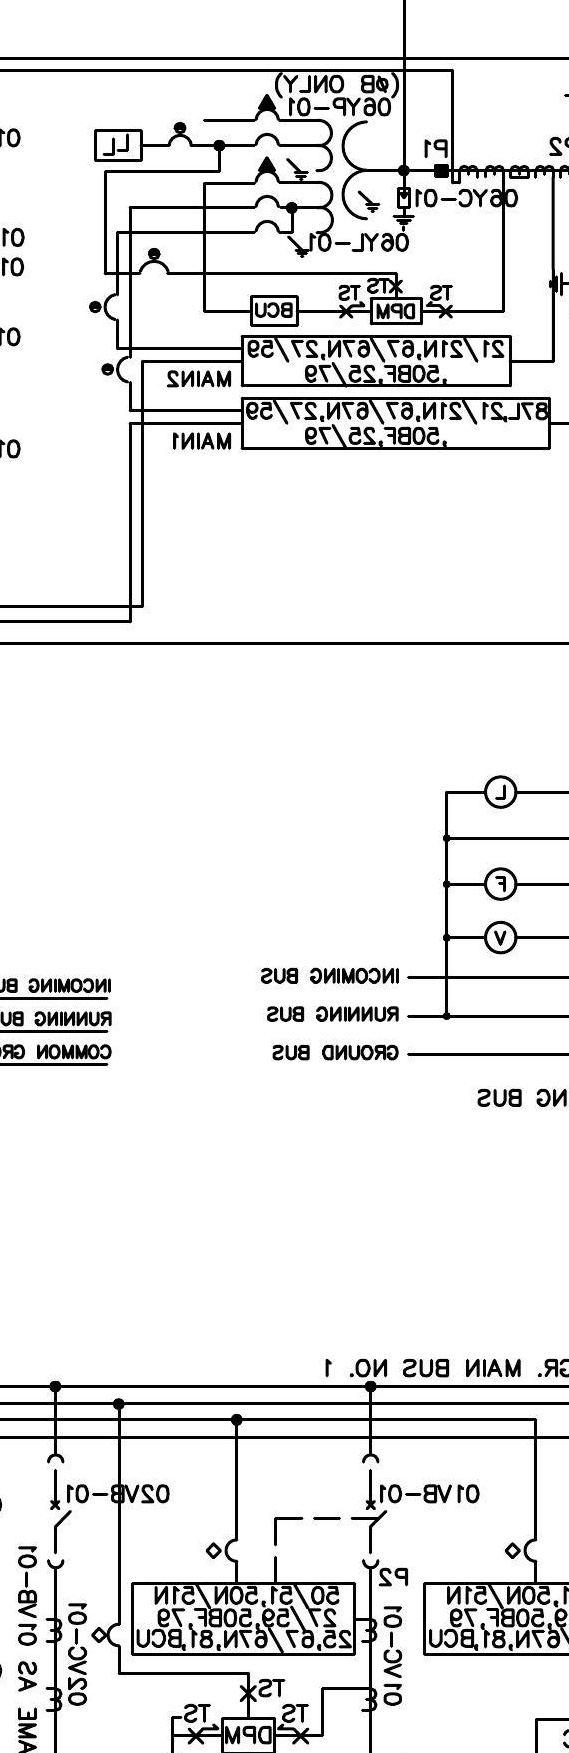115_la: (391, 187, 416, 233)
115_vt_1p: (253, 94, 381, 258)
22_breaker: (361, 1452, 388, 1570), (46, 1452, 73, 1570)
BCU: (249, 294, 300, 328)
DPM: (370, 296, 424, 325)
LL: (94, 129, 143, 162)
